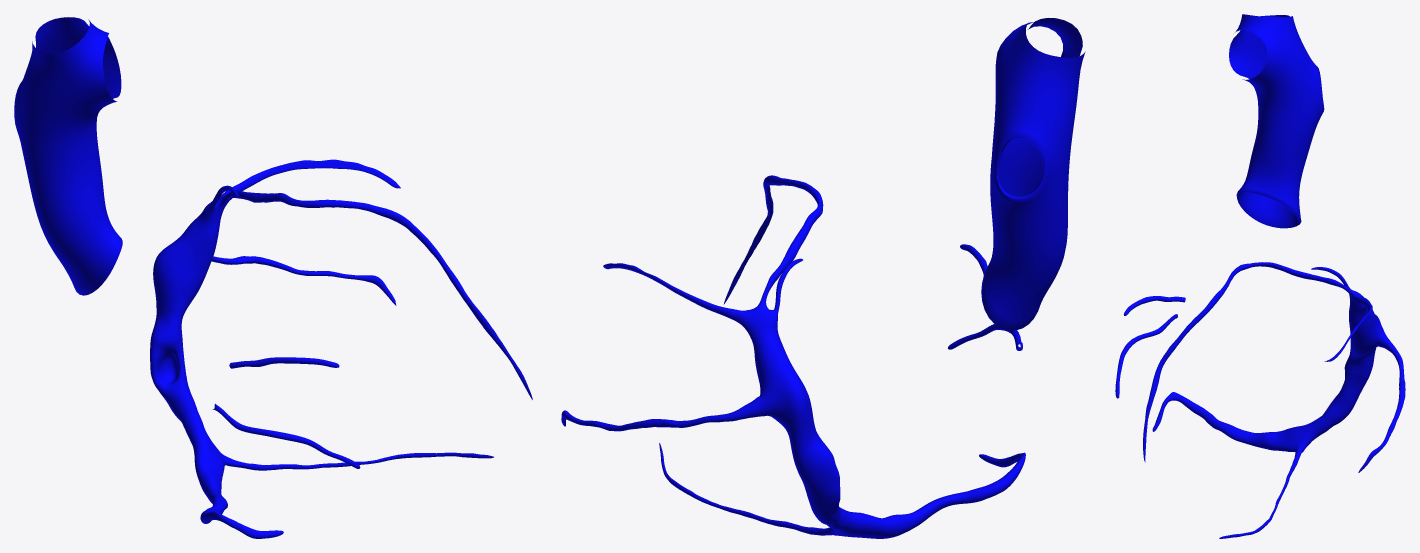
The model's file is hra-female-cardiac-venous-01.glb.
3 renders of one model, left to right at view 1: azimuth 30°, elevation 25°; view 2: azimuth 150°, elevation 25°; view 3: azimuth 270°, elevation 25°, orthographic. The views are drawn at different scales.
Visible parts, largest first — view 1: VH_F_superior_vena_cava, VH_F_coronary_sinus, VH_F_great_cardiac_vein, VH_F_small_cardiac_vein, VH_F_anterior_cardiac_vein, VH_F_left_marginal_vein, VH_F_middle_cardiac_vein, VH_F_posterior_vein_of_left_ventricle; view 2: VH_F_superior_vena_cava, VH_F_coronary_sinus, VH_F_small_cardiac_vein, VH_F_great_cardiac_vein, VH_F_posterior_vein_of_left_ventricle, VH_F_middle_cardiac_vein, VH_F_left_marginal_vein, VH_F_anterior_cardiac_vein; view 3: VH_F_superior_vena_cava, VH_F_coronary_sinus, VH_F_small_cardiac_vein, VH_F_great_cardiac_vein, VH_F_posterior_vein_of_left_ventricle, VH_F_anterior_cardiac_vein, VH_F_middle_cardiac_vein.
Boxes of the visible parts, x1=… form: VH_F_superior_vena_cava: x1=14, y1=17, x2=122, y2=295; VH_F_coronary_sinus: x1=150, y1=192, x2=228, y2=465; VH_F_great_cardiac_vein: x1=216, y1=190, x2=532, y2=399; VH_F_small_cardiac_vein: x1=194, y1=444, x2=283, y2=538; VH_F_anterior_cardiac_vein: x1=212, y1=357, x2=360, y2=468; VH_F_left_marginal_vein: x1=225, y1=159, x2=400, y2=202; VH_F_middle_cardiac_vein: x1=222, y1=452, x2=493, y2=470; VH_F_posterior_vein_of_left_ventricle: x1=212, y1=256, x2=396, y2=305; VH_F_superior_vena_cava: x1=981, y1=18, x2=1085, y2=330; VH_F_coronary_sinus: x1=739, y1=309, x2=862, y2=536; VH_F_small_cardiac_vein: x1=851, y1=452, x2=1025, y2=538; VH_F_great_cardiac_vein: x1=723, y1=175, x2=823, y2=311; VH_F_posterior_vein_of_left_ventricle: x1=561, y1=396, x2=767, y2=431; VH_F_middle_cardiac_vein: x1=659, y1=443, x2=832, y2=535; VH_F_left_marginal_vein: x1=603, y1=263, x2=739, y2=322; VH_F_anterior_cardiac_vein: x1=948, y1=244, x2=1022, y2=350; VH_F_superior_vena_cava: x1=1229, y1=14, x2=1324, y2=228; VH_F_coronary_sinus: x1=1291, y1=289, x2=1385, y2=452; VH_F_small_cardiac_vein: x1=1152, y1=392, x2=1298, y2=451; VH_F_great_cardiac_vein: x1=1143, y1=262, x2=1361, y2=462; VH_F_posterior_vein_of_left_ventricle: x1=1358, y1=334, x2=1405, y2=472; VH_F_anterior_cardiac_vein: x1=1115, y1=296, x2=1185, y2=398; VH_F_middle_cardiac_vein: x1=1219, y1=445, x2=1304, y2=538.
Size of the model in its own units: 0.1304 by 0.1528 by 0.1024.
